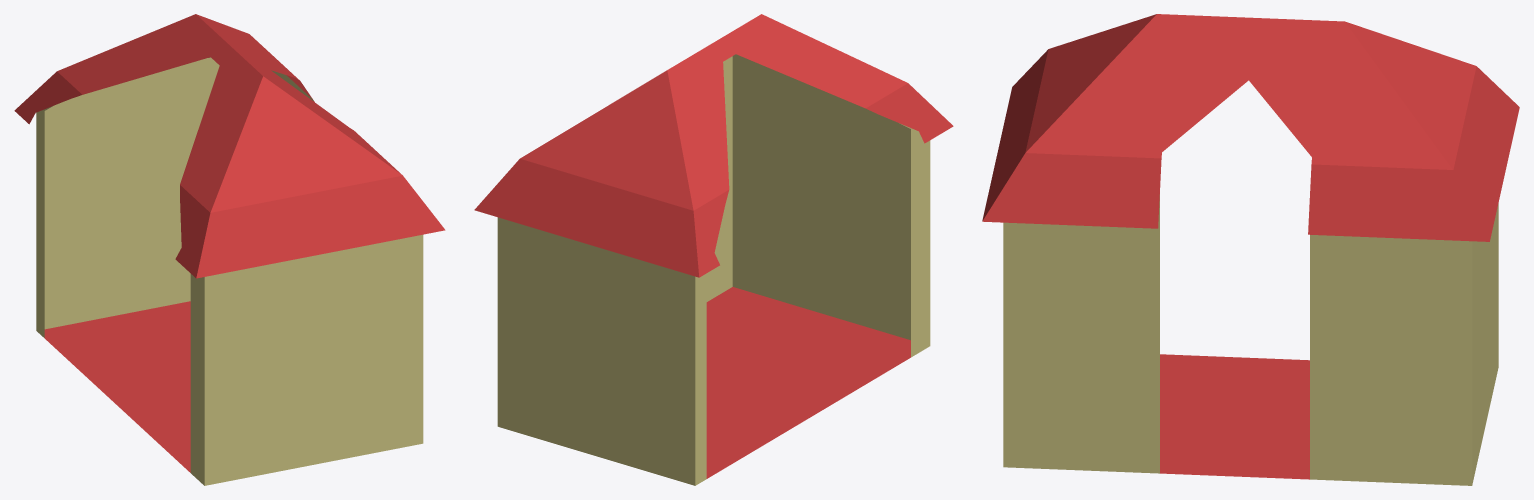
3 views of the same model, side by side, from view 1: azimuth 30°, elevation 25°; view 2: azimuth 150°, elevation 25°; view 3: azimuth 270°, elevation 25° (orthographic). The views are drawn at different scales.
Size of the model in its own units: 14.05 by 20.61 by 16.89.
